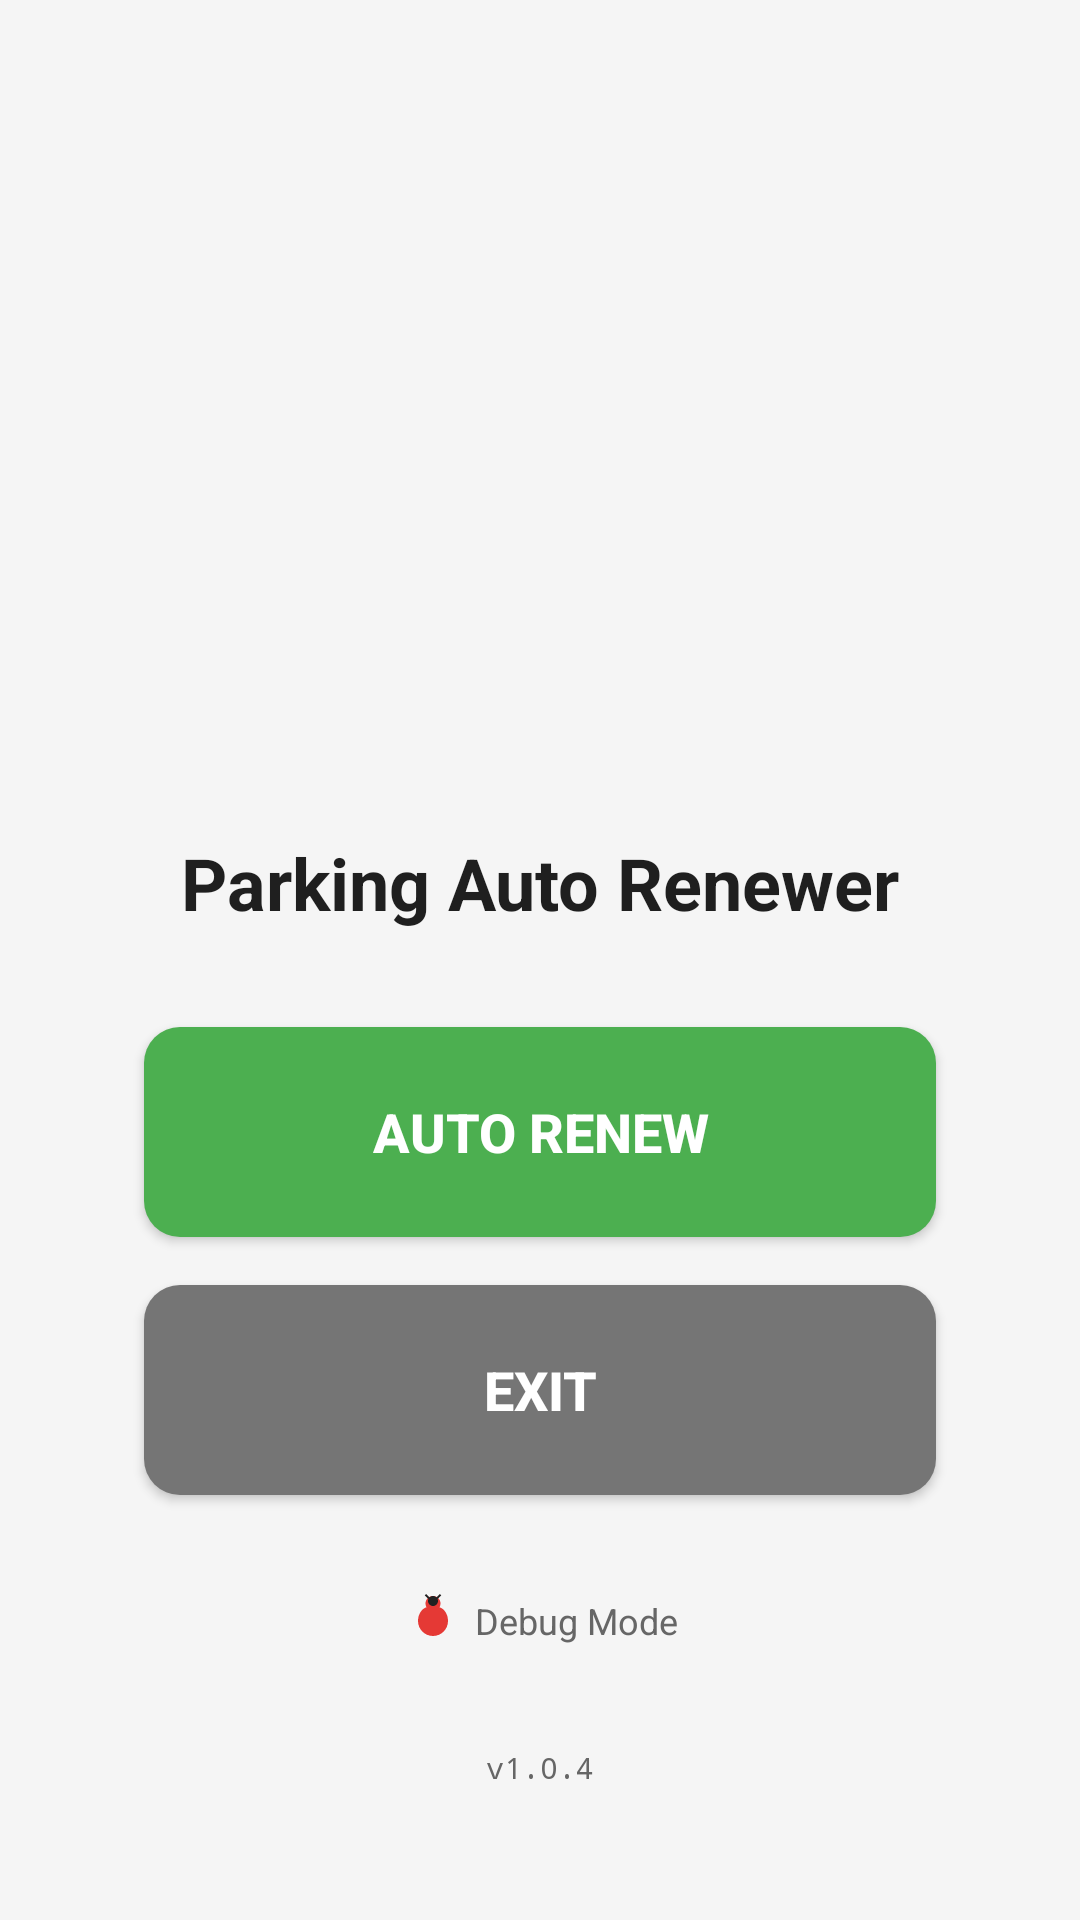

Point at icon controls on the screen. Image size 1080 x 1920, points as point (x, y).
ladybug: point (433, 1615)
